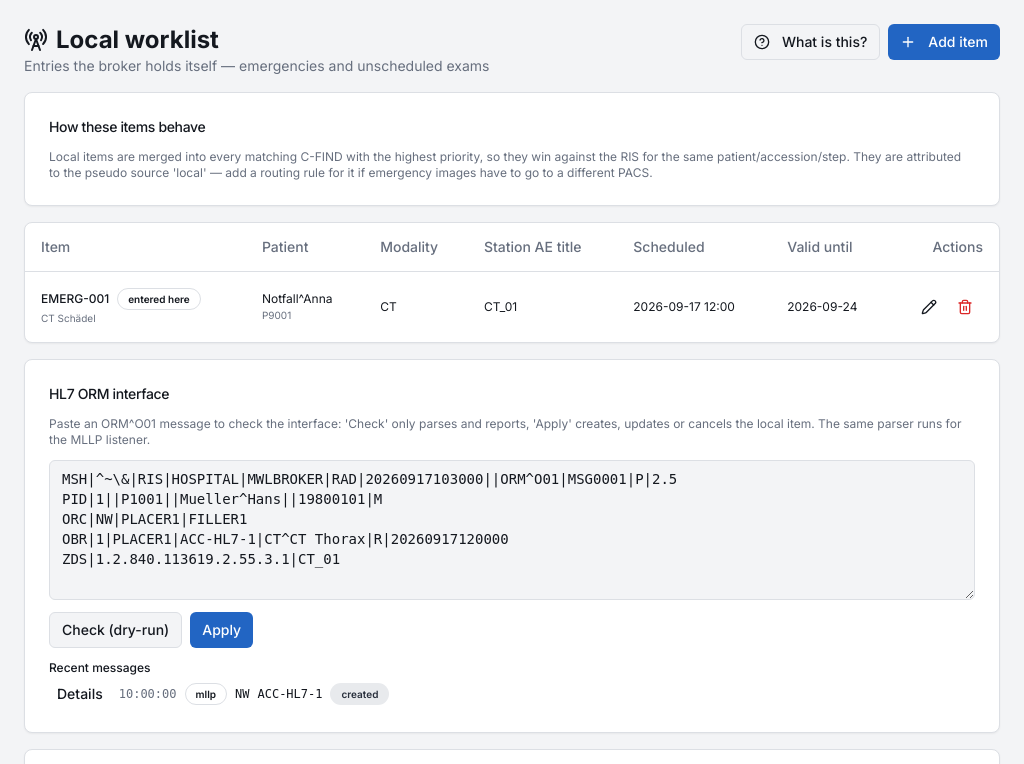
LocalWorklistPage › checks an HL7 message without writing
Expected: the text "EMERG-001" is shown, [41,290,109,306]
Click the button "Check (dry-run)". click: (116, 630)
box: [49,612,182,648]
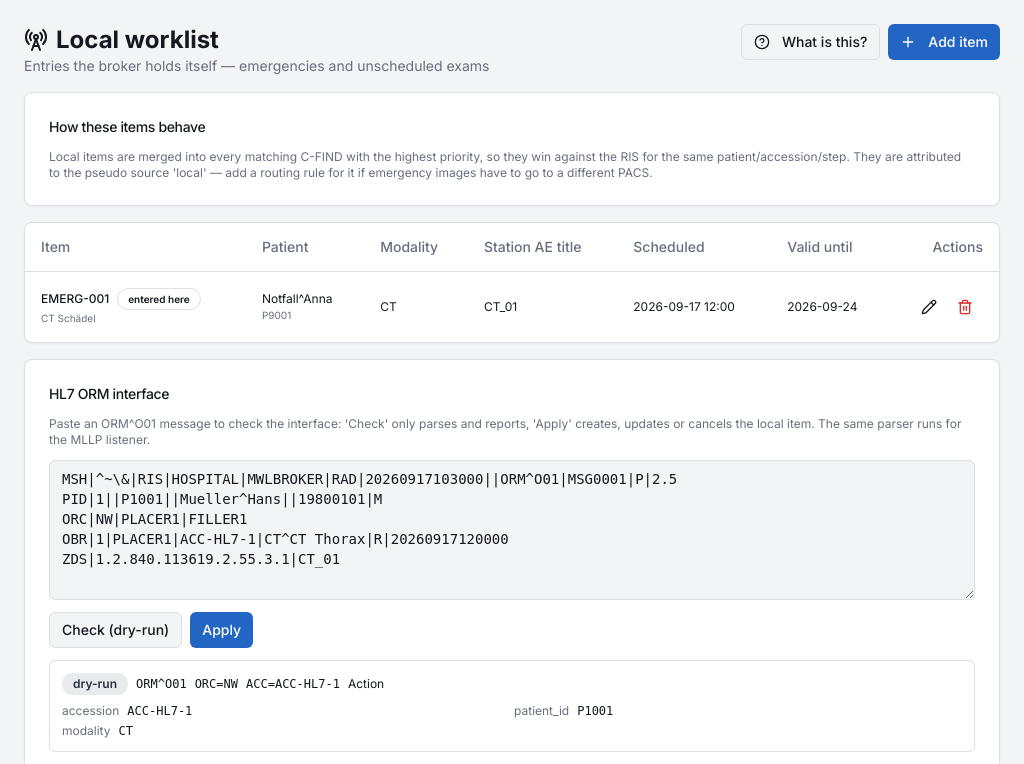
Result: the element with test id "broker-hl7-result" shows "dry-run" at [73,676,117,690]
Result: the element with test id "broker-hl7-result" shows "ACC-HL7-1" at [275,676,340,690]
Result: the element with test id "broker-hl7-result" shows "ORM^O01" at [136,676,187,690]
